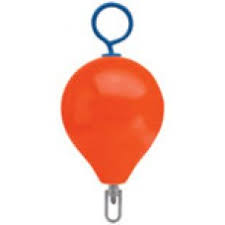buoy: (62, 57, 164, 183)
